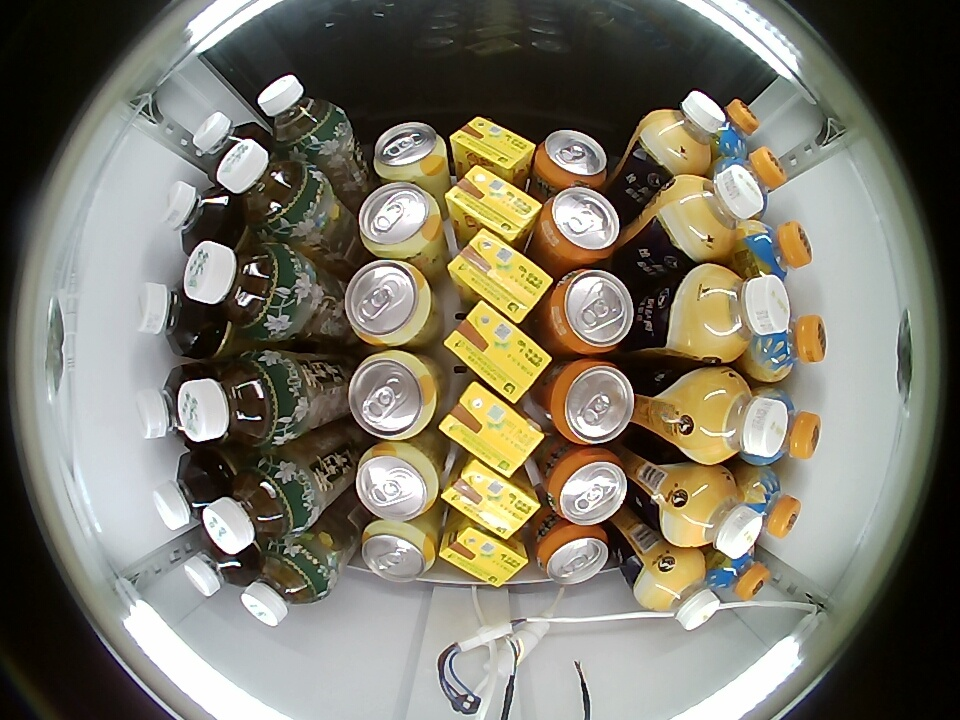asamu: (690, 372, 796, 465), (694, 268, 792, 359), (672, 165, 765, 258), (673, 473, 765, 558), (645, 90, 726, 168), (646, 558, 721, 630)
fenda: (550, 359, 636, 445), (551, 268, 635, 354), (548, 448, 629, 525), (541, 187, 621, 264), (538, 525, 610, 585), (535, 129, 608, 187)
guolicheng: (753, 384, 820, 464), (714, 145, 786, 219), (748, 315, 827, 382), (734, 220, 813, 281), (737, 466, 801, 538), (704, 539, 771, 598), (711, 99, 759, 160)
mangguoxiaolao: (347, 350, 438, 440), (344, 259, 434, 348), (355, 443, 439, 521), (358, 182, 441, 259), (360, 521, 437, 583), (373, 122, 447, 181)
moliqingcha: (185, 240, 303, 340), (179, 351, 297, 448), (203, 458, 311, 554), (218, 141, 324, 238), (241, 540, 330, 626), (257, 74, 348, 156)
weitaningmeng: (444, 300, 551, 404), (438, 382, 545, 477), (448, 230, 551, 323), (440, 459, 541, 539), (446, 165, 540, 244), (439, 523, 530, 588), (450, 116, 535, 177)
wulongcha: (136, 280, 211, 355), (152, 455, 221, 530), (135, 365, 201, 443), (190, 112, 265, 180), (162, 180, 232, 251), (182, 534, 250, 596)
